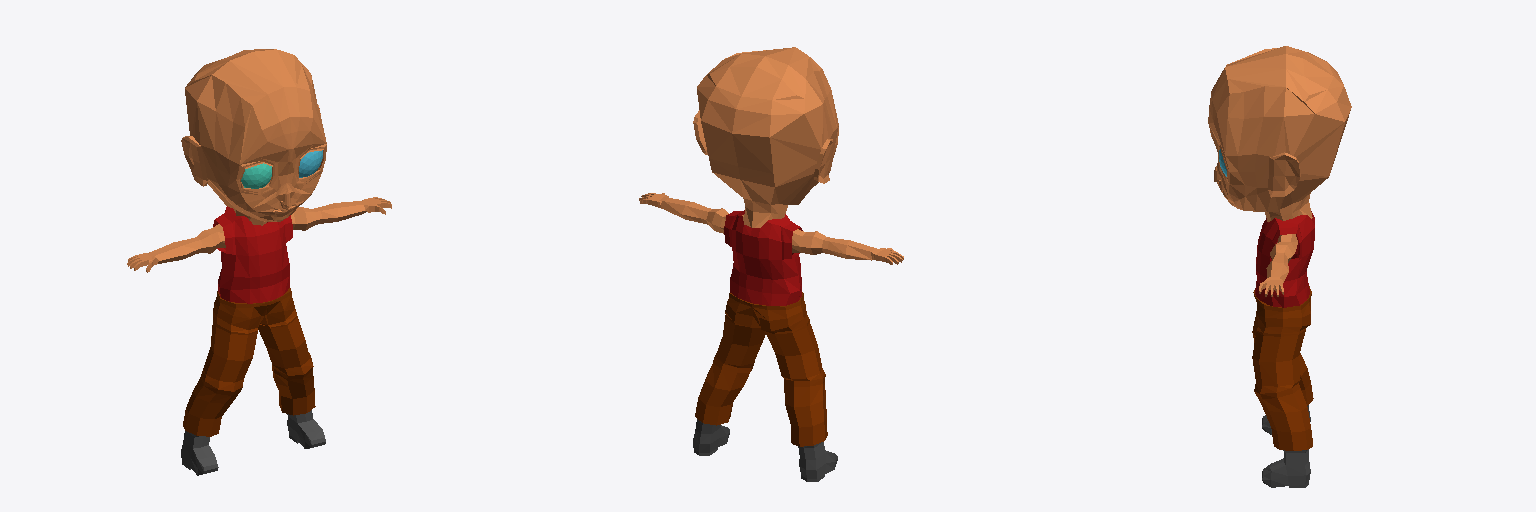
Rendered from ChibiBase.obj.
3 views of the same model, side by side, from view 1: azimuth 30°, elevation 25°; view 2: azimuth 150°, elevation 25°; view 3: azimuth 270°, elevation 25° (orthographic).
Parts seen in each view (by area): view 1: Head, Pants, Shirt, Arm_Right, Arm_Left, Boot_Right, Boot_Left, Eye_Right; view 2: Head, Pants, Shirt, Arm_Right, Arm_Left, Boot_Right, Boot_Left; view 3: Head, Pants, Shirt, Boot_Left, Arm_Left.
Part boxes in pixels (x1,y1,x2,y2): Head: (181,49,326,225); Pants: (183,288,315,436); Shirt: (213,206,292,303); Arm_Right: (127,224,225,272); Arm_Left: (291,197,391,230); Boot_Right: (181,431,218,475); Boot_Left: (287,410,325,448); Eye_Right: (241,163,271,188); Head: (693,47,838,227); Pants: (695,292,827,446); Shirt: (724,210,802,305); Arm_Right: (792,229,903,264); Arm_Left: (639,193,743,233); Boot_Right: (798,442,837,481); Boot_Left: (693,419,729,455); Head: (1208,46,1351,221); Pants: (1252,286,1313,450); Shirt: (1255,211,1314,307); Boot_Left: (1262,449,1310,487); Arm_Left: (1259,234,1297,296).
Size of the model in its own units: 646 by 956 by 308.